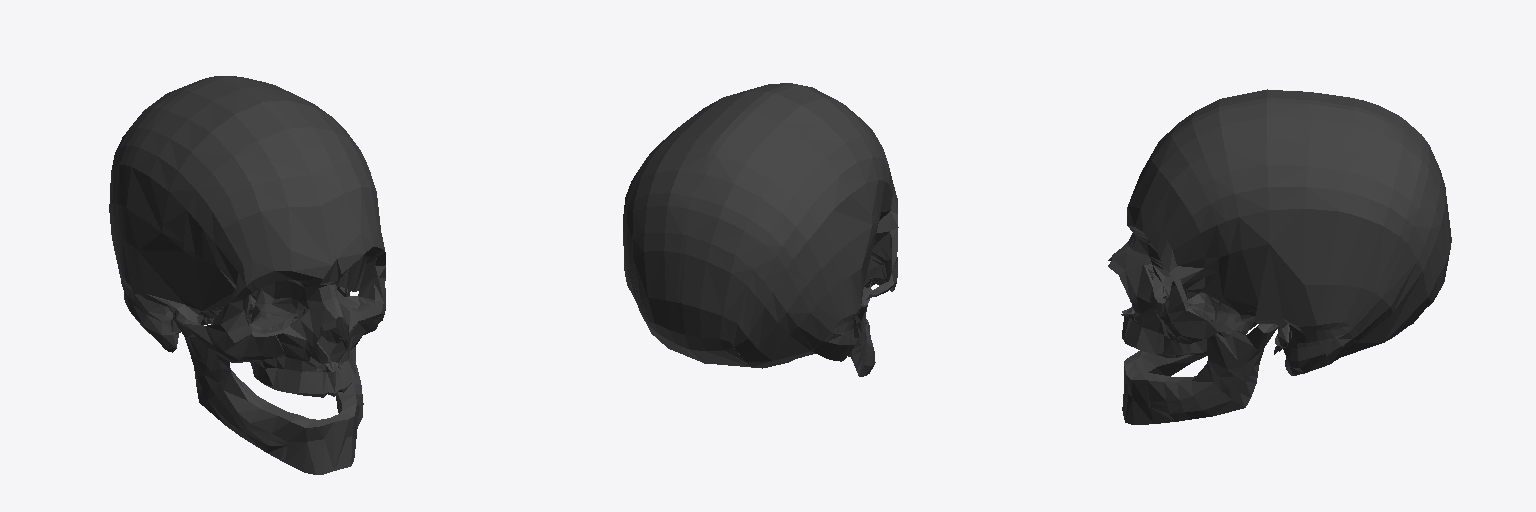
Rendered from Skull.obj.
3 views of the same model, side by side, from view 1: azimuth 30°, elevation 25°; view 2: azimuth 150°, elevation 25°; view 3: azimuth 270°, elevation 25° (orthographic).
Bounding box in the file's own units: 14.3 × 20.19 × 19.9.